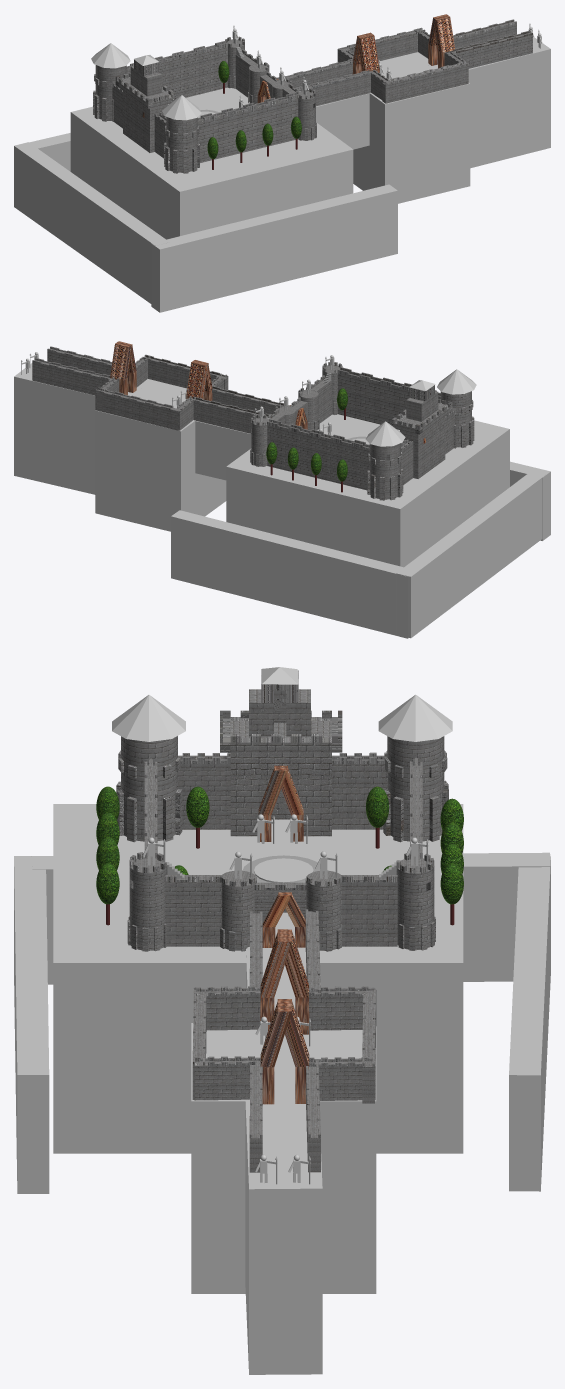
The model's file is castle.fbx.
3 views of the same model, one above another, from view 1: azimuth 30°, elevation 25°; view 2: azimuth 150°, elevation 25°; view 3: azimuth 270°, elevation 25° (orthographic). The views are drawn at different scales.
Parts seen in each view (by area): view 1: pCube27, pCube31, pCube34, pCube30, pCube41, pCube15, pCube14, pCube13, pCube28, pCube36, polySurface3, pCube42 (+17 smaller); view 2: pCube27, pCube29, pCube34, pCube30, pCube41, pCube14, pCube15, pCube13, pCube28, pCube35, polySurface2, pCube43 (+18 smaller); view 3: pCube27, pCube34, pCube41, pCube29, pCube31, pCube13, pCube30, polySurface3, polySurface2, pCube2, pCube1, pCylinder2 (+27 smaller).
Boxes of the visible parts, box(x1,y1,x2,y2) form: pCube27: box(70, 87, 353, 239); pCube31: box(151, 184, 397, 312); pCube34: box(353, 52, 470, 203); pCube30: box(14, 142, 169, 303); pCube41: box(424, 37, 550, 168); pCube15: box(197, 92, 299, 162); pCube14: box(126, 40, 228, 98); pCube13: box(115, 73, 176, 152); pCube28: box(316, 93, 369, 149); pCube36: box(382, 61, 468, 103); polySurface3: box(164, 117, 199, 173); pCube42: box(446, 30, 532, 68); pCube27: box(226, 414, 509, 567); pCube29: box(171, 510, 408, 638); pCube34: box(95, 379, 226, 531); pCube30: box(396, 471, 545, 638); pCube41: box(14, 363, 141, 494); pCube14: box(267, 419, 369, 490); pCube15: box(337, 367, 440, 425); pCube13: box(392, 399, 452, 478); pCube28: box(195, 421, 251, 480); pCube35: box(95, 387, 180, 430); polySurface2: box(367, 443, 403, 500); pCube43: box(32, 358, 116, 395); pCube27: box(53, 804, 463, 1153); pCube34: box(191, 1023, 376, 1293); pCube41: box(245, 1090, 322, 1374); pCube29: box(509, 856, 550, 1191); pCube31: box(14, 856, 49, 1193); pCube13: box(220, 710, 342, 836); pCube30: box(31, 852, 550, 984); polySurface3: box(116, 736, 182, 842); polySurface2: box(383, 736, 448, 842); pCube2: box(341, 875, 397, 946); pCube1: box(165, 875, 221, 946); pCylinder2: box(127, 852, 167, 951).
Size of the model in its own units: 180 by 72.37 by 97.73.
